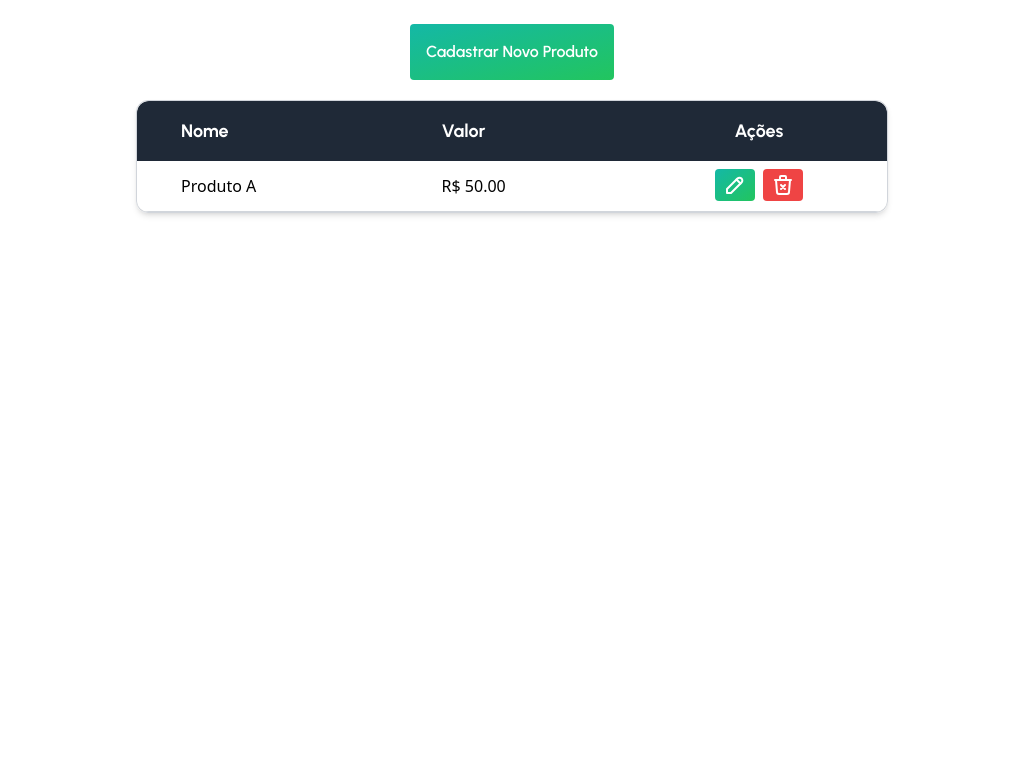
Test: Componente ProductList › deve abrir o modal ao clicar em um produto da lista
Click the text "Produto A" at (281, 186), box [137,161,426,212]
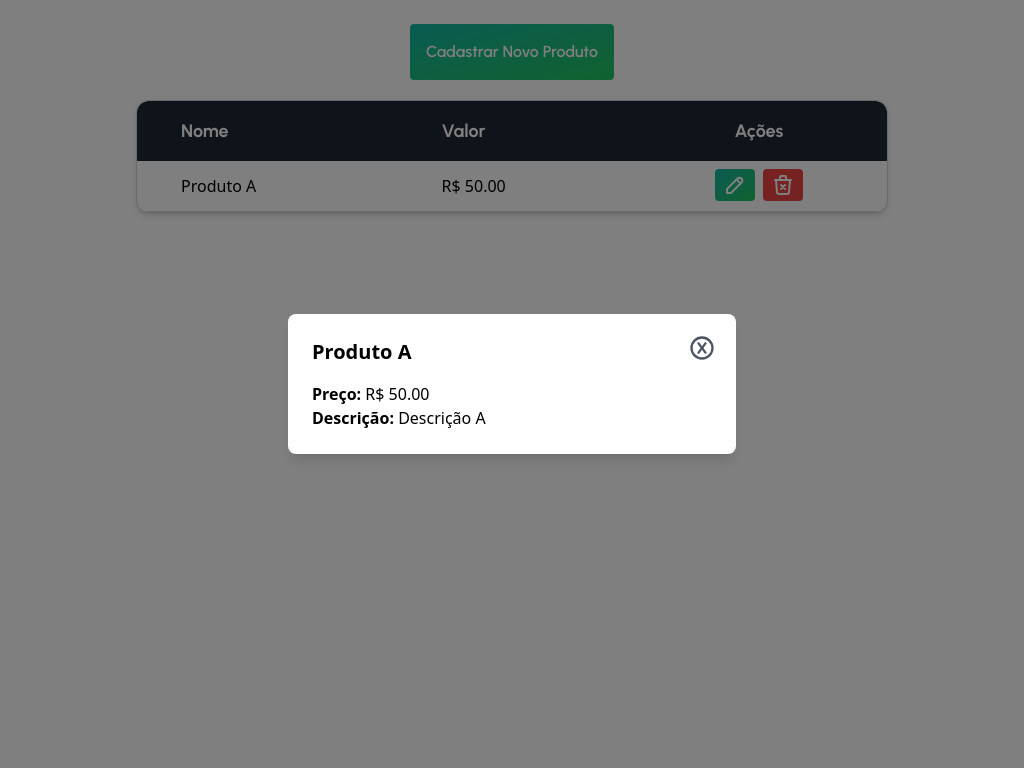
Check: the text "Descrição:" is shown, box [312,407,394,429]
Check: the text "Descrição: Descrição A" is shown, box [312,407,486,429]
Check: the text "Preço:" is shown, box [312,383,361,405]
